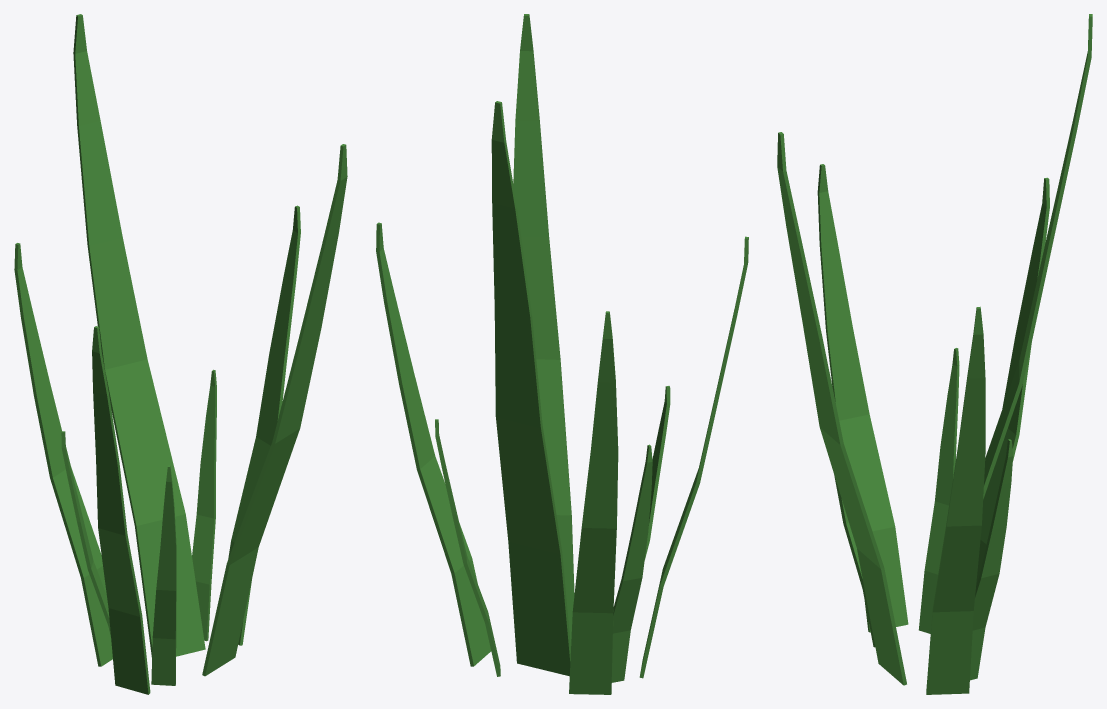
The model's file is Grass2.glb.
The picture shows the model from 3 angles, left to right: view 1: azimuth 30°, elevation 25°; view 2: azimuth 150°, elevation 25°; view 3: azimuth 270°, elevation 25°; orthographic projection. The views are drawn at different scales.
Visible parts, largest first — view 1: Grass2.001; view 2: Grass2.001; view 3: Grass2.001.
Part boxes in pixels (x1,y1,x2,y2): Grass2.001: (14, 14, 347, 694); Grass2.001: (376, 14, 748, 694); Grass2.001: (777, 14, 1092, 694).
Bounding box in the file's own units: 0.3459 × 0.7065 × 0.3182.
